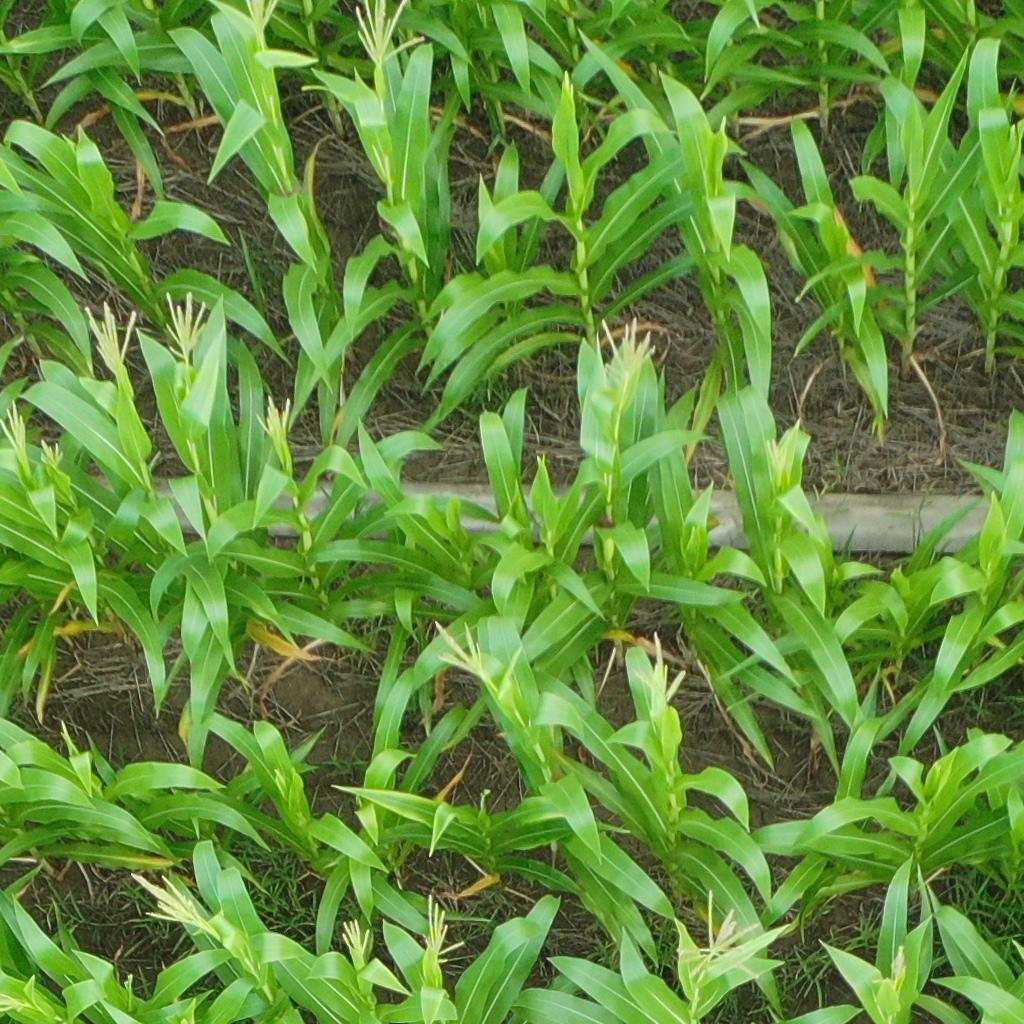Tassel: (679, 888, 766, 983), (127, 867, 213, 931), (353, 1, 427, 69), (633, 632, 687, 706), (599, 316, 656, 385), (82, 300, 140, 367), (160, 290, 210, 358), (432, 618, 485, 678), (422, 895, 466, 963), (765, 416, 800, 486), (871, 942, 905, 989), (254, 394, 292, 435), (245, 1, 282, 43), (1, 399, 30, 452), (340, 920, 372, 958), (37, 438, 65, 469), (1, 991, 27, 1013)
